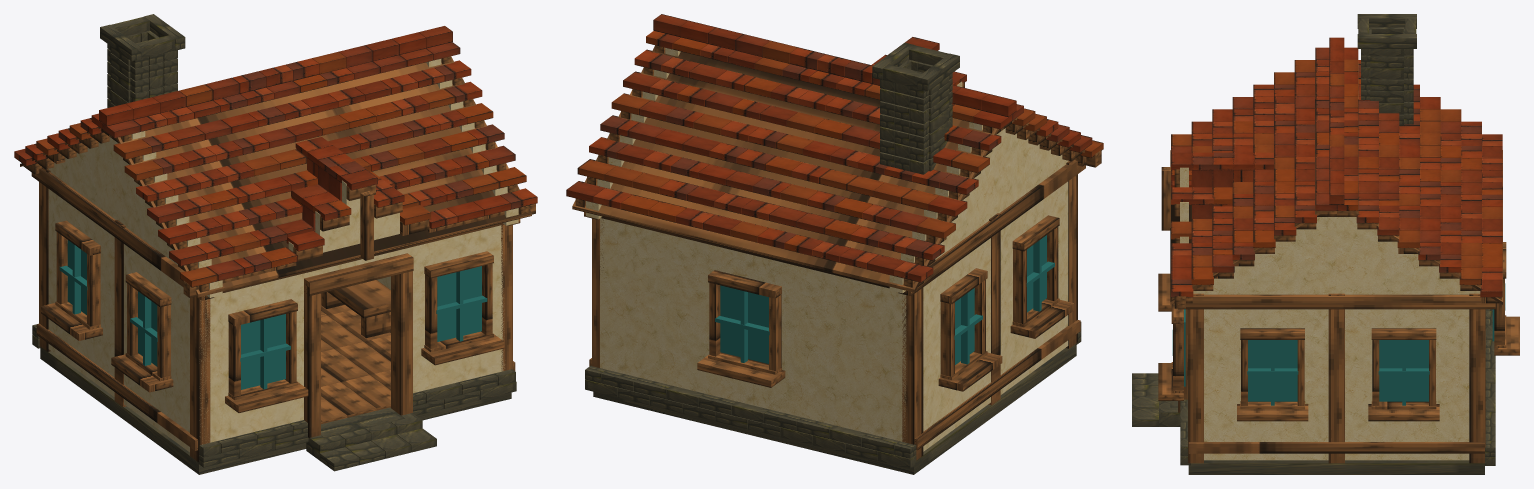
File: SM_HP_Cottage_LOD2.fbx
3 views of the same model, side by side, from view 1: azimuth 30°, elevation 25°; view 2: azimuth 150°, elevation 25°; view 3: azimuth 270°, elevation 25° (orthographic). The views are drawn at different scales.
Parts seen in each view (by area): view 1: SM_HP_Cottage_LOD2; view 2: SM_HP_Cottage_LOD2; view 3: SM_HP_Cottage_LOD2.
Part boxes in pixels (left/top/right/bottom): SM_HP_Cottage_LOD2: left=14, top=14, right=537, bottom=474; SM_HP_Cottage_LOD2: left=566, top=14, right=1103, bottom=474; SM_HP_Cottage_LOD2: left=1132, top=14, right=1519, bottom=474.
Bounding box in the file's own units: 5.76 × 5.76 × 5.39.
7 materials, 4 textured.
